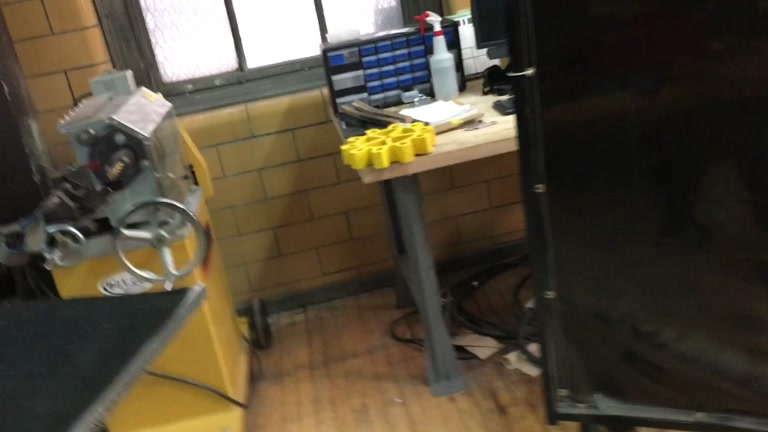gear: (339, 121, 436, 171)
